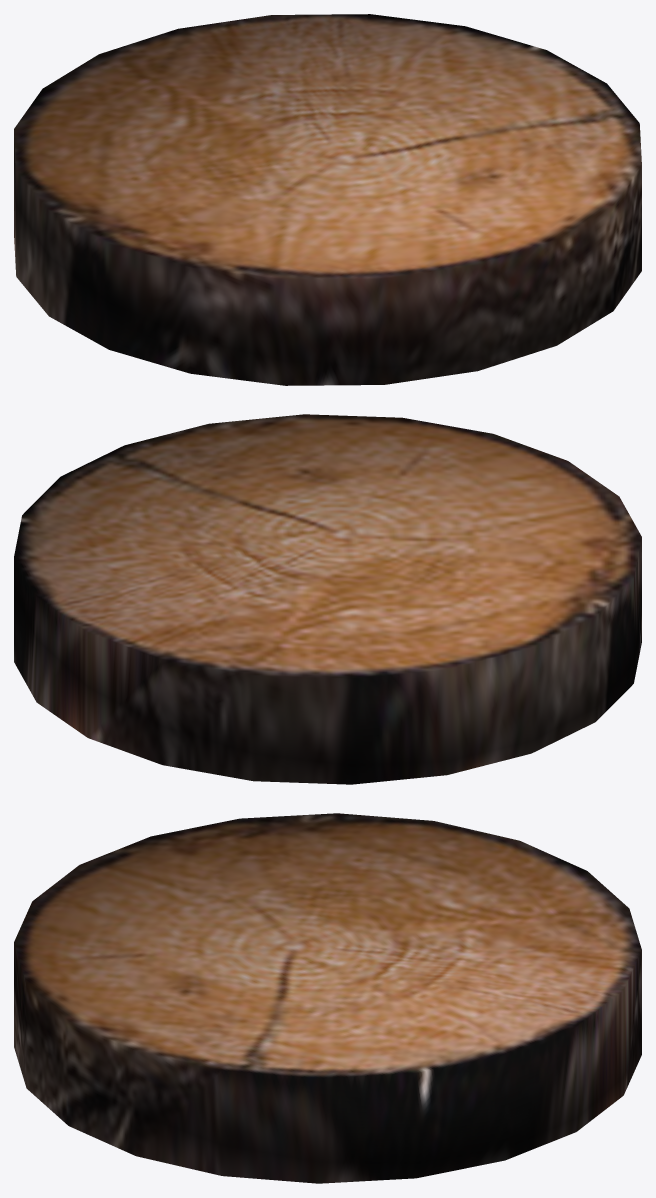
Rendered from Basic_Disc.fbx.
3 renders of one model, top to bottom at view 1: azimuth 30°, elevation 25°; view 2: azimuth 150°, elevation 25°; view 3: azimuth 270°, elevation 25°, orthographic.
Visible parts, largest first — view 1: Basic_Disc; view 2: Basic_Disc; view 3: Basic_Disc.
Part boxes in pixels (x1,y1,x2,y2): Basic_Disc: (14, 14, 641, 385); Basic_Disc: (14, 414, 641, 784); Basic_Disc: (14, 813, 641, 1183).
Size of the model in its own units: 5.31 by 0.9844 by 5.31.
